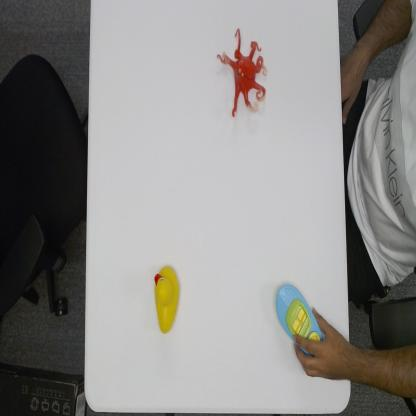Boat: (275, 283, 321, 356)
Duck: (152, 262, 181, 337)
Hand: (291, 303, 351, 384)
Octopus: (216, 26, 268, 120)
